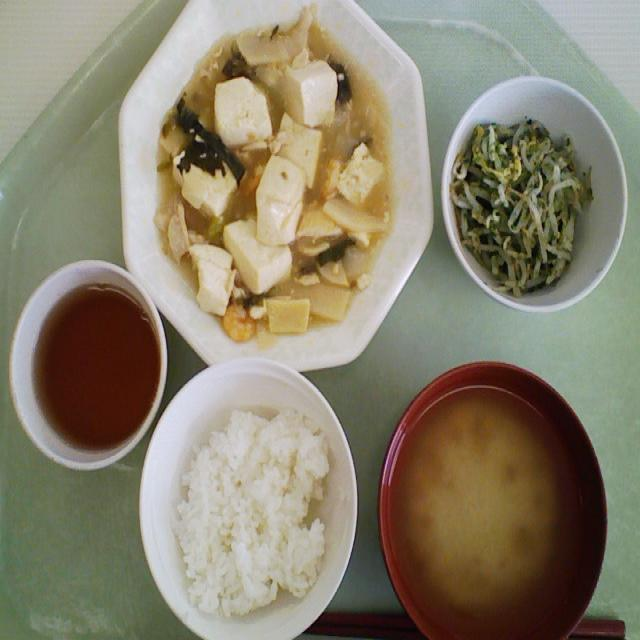Rice: (155, 400, 350, 630)
